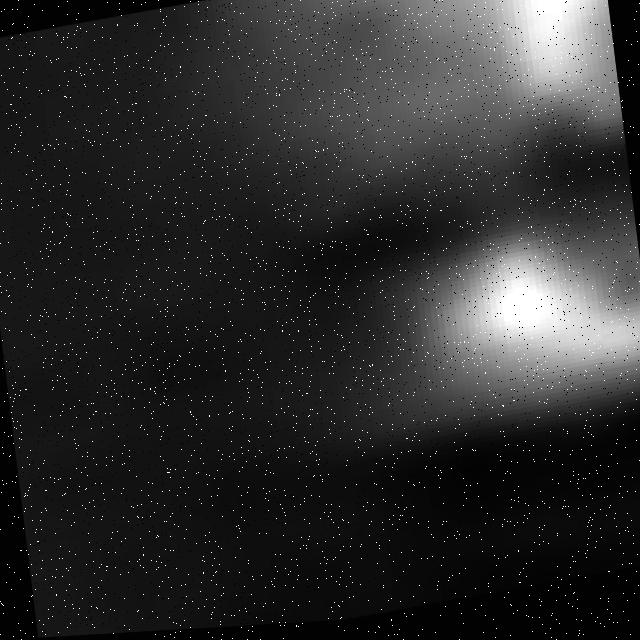person: (105, 1, 630, 267), (251, 208, 640, 471)
